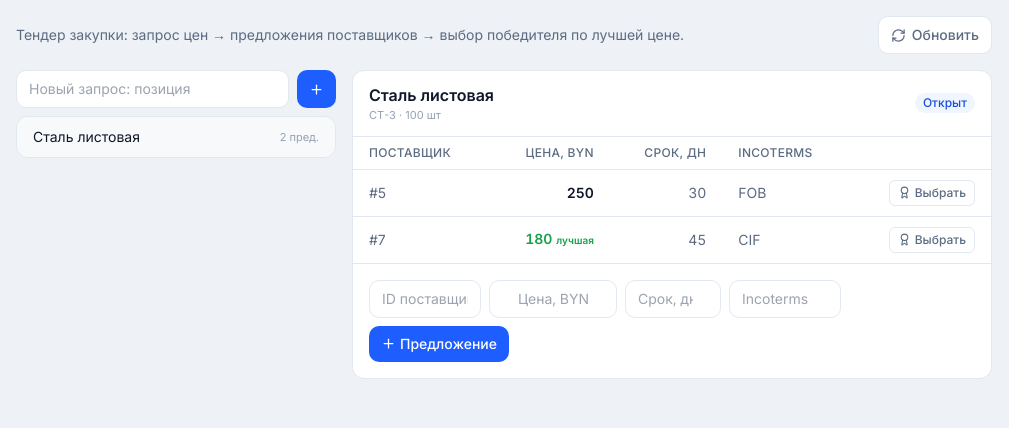
ProcurementRfqView › сбой создания показывает ошибку, а не молчит
Type "Кабель ВВГ" into the field with placeholder "Новый запрос: позиция". click: (152, 89)
box: [16, 70, 289, 108]
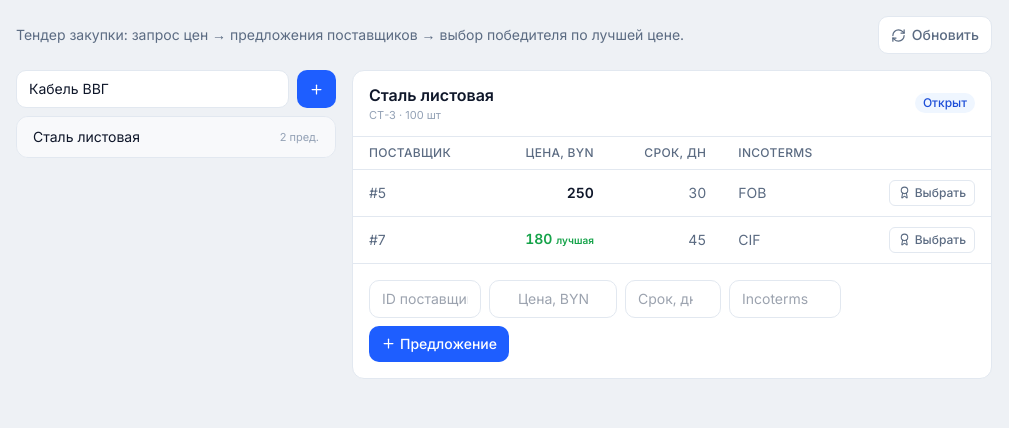
Click the 2nd button. click: (316, 89)
box: [297, 70, 336, 108]
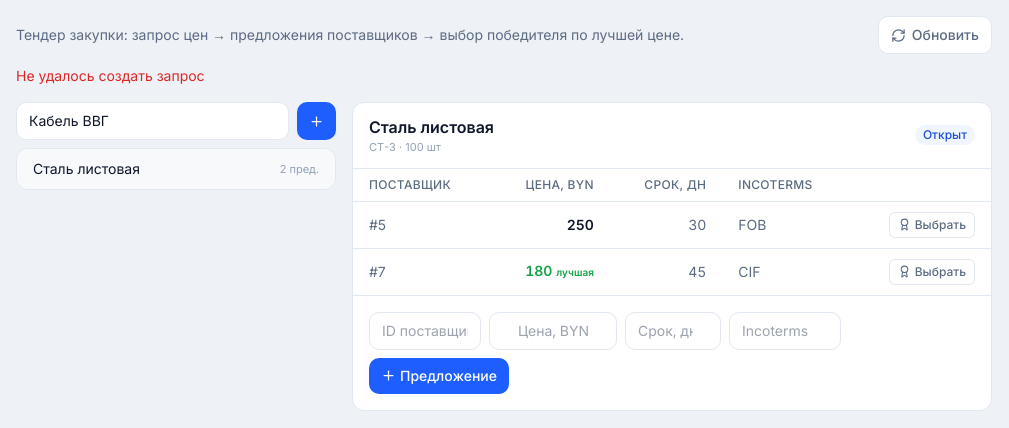
Result: the text "Не удалось создать запрос" is shown at [16, 67, 205, 84]
